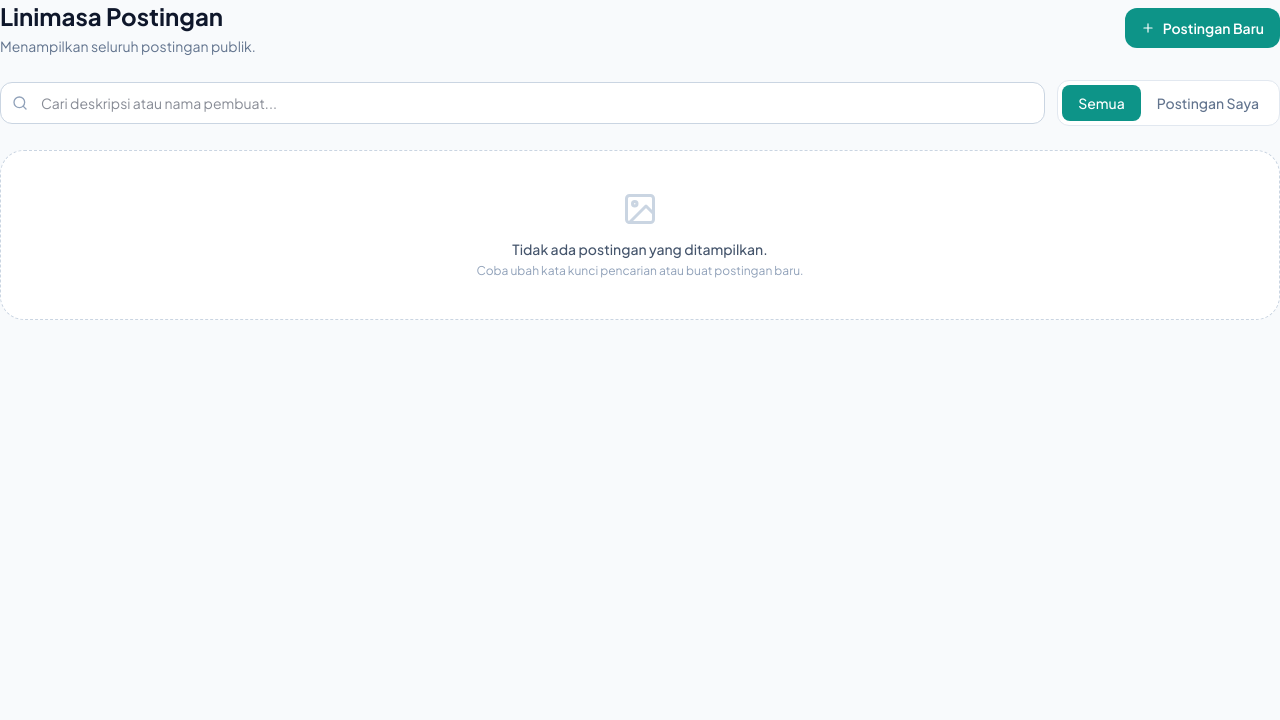
Test: HomePage › membuka modal postingan baru saat tombol Postingan Baru diklik
Step 1. Click the button "Postingan Baru" → (1202, 28), box left=1125, top=8, right=1279, bottom=48
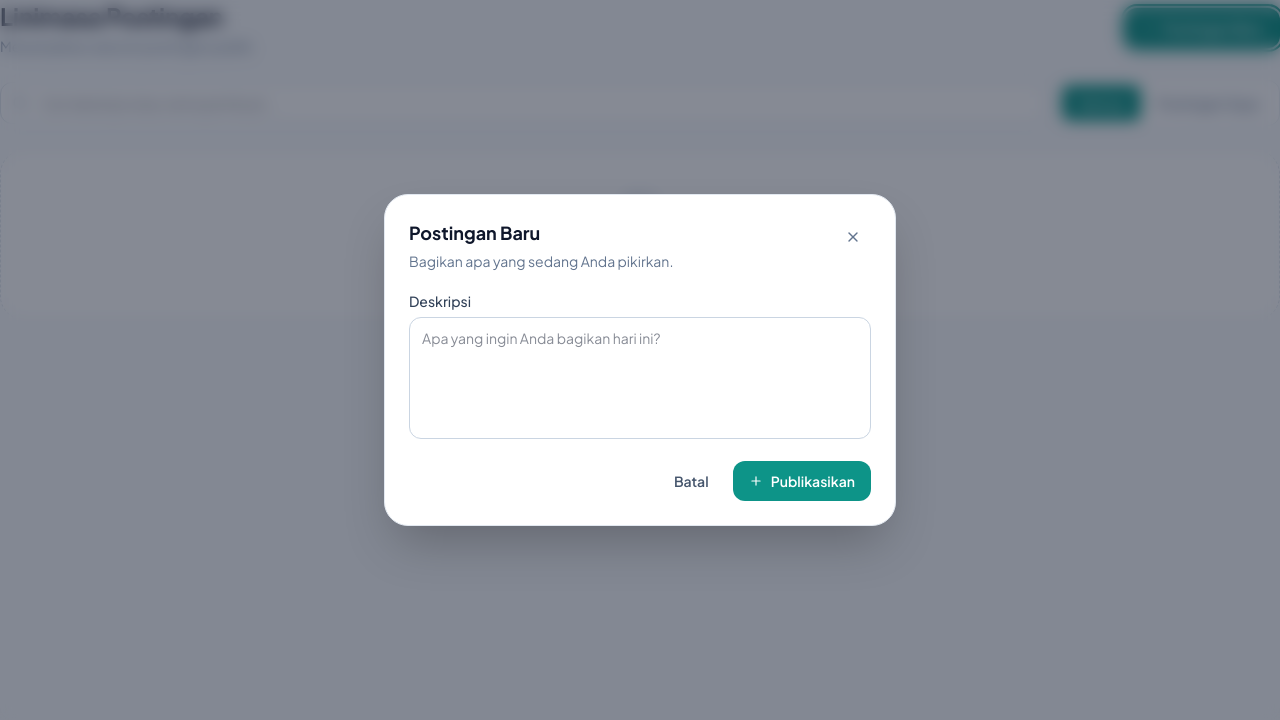
Expected: the dialog "Postingan Baru" is shown, left=384, top=194, right=896, bottom=526
Menutup modal dari dalam AddModal memanggil callback milik HomePage.
Step 2. Click the button "Batal" → (691, 481), box left=658, top=461, right=725, bottom=501
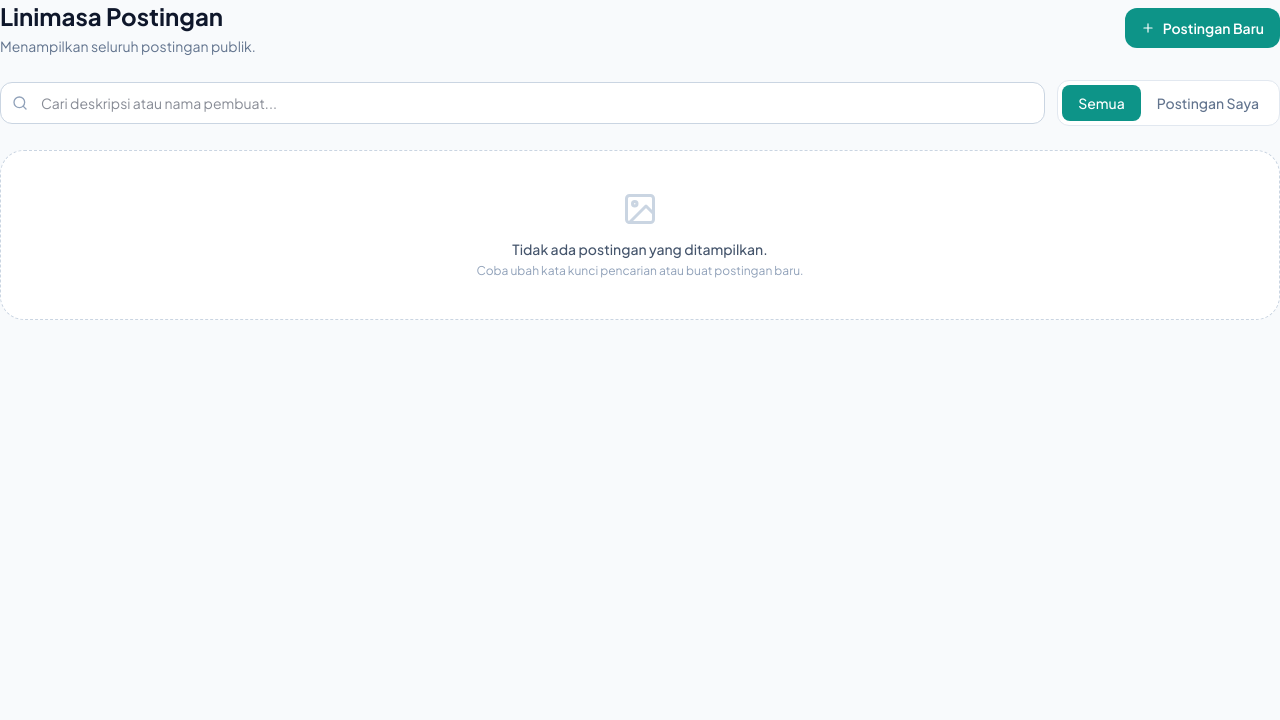
Expected: the dialog is gone
